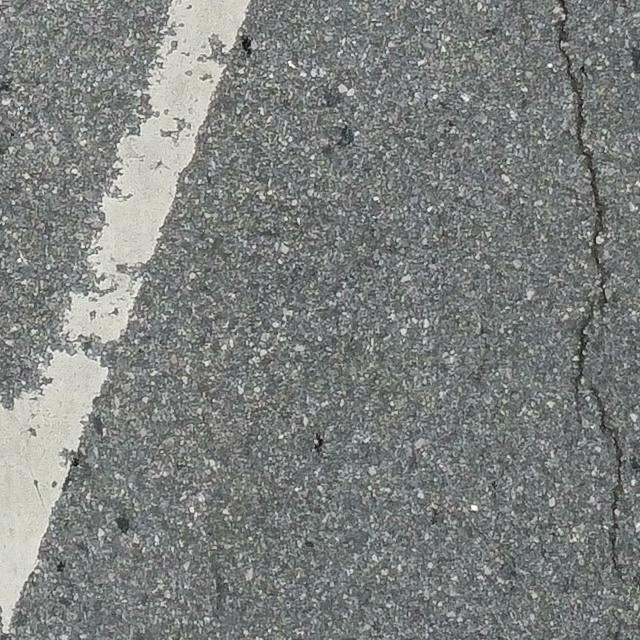LongitudinalCrack: (555, 1, 624, 580)
